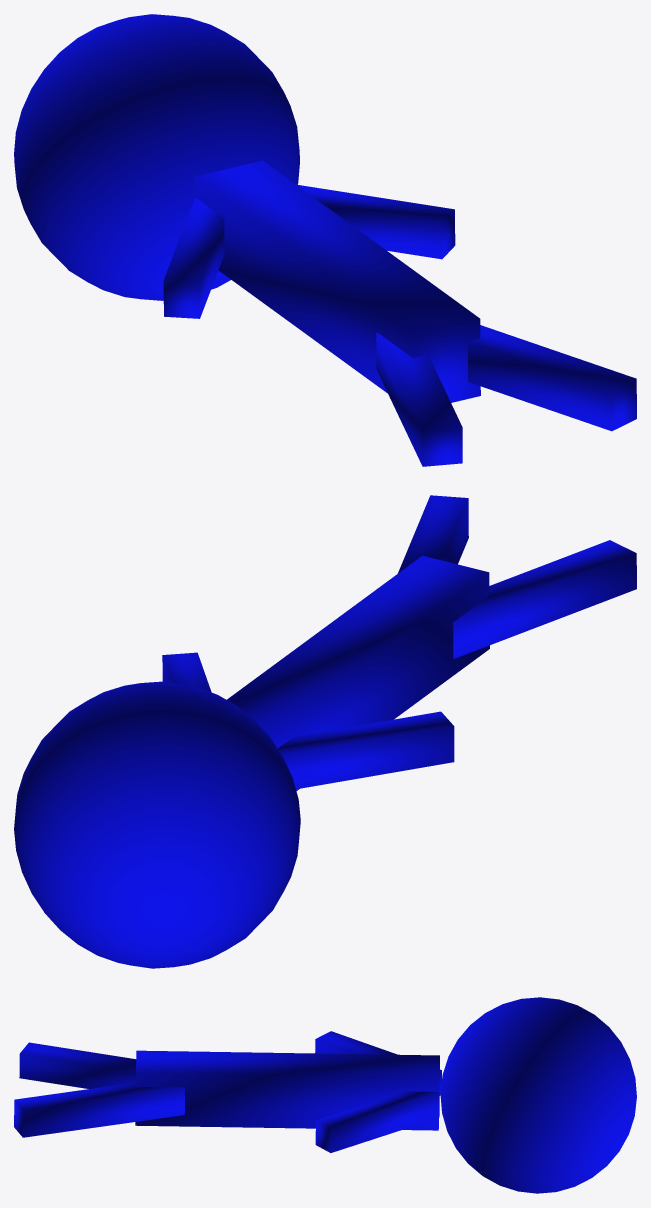
The model's file is Person.gltf.
The picture shows the model from 3 angles, top to bottom: view 1: azimuth 30°, elevation 25°; view 2: azimuth 150°, elevation 25°; view 3: azimuth 270°, elevation 25°; orthographic projection. The views are drawn at different scales.
Parts seen in each view (by area): view 1: Node1; view 2: Node1; view 3: Node1.
Part boxes in pixels (x1,y1,x2,y2): Node1: (14,14,636,466); Node1: (14,495,636,968); Node1: (14,997,636,1193).
Size of the model in its own units: 1.65 by 1.4 by 4.45.
